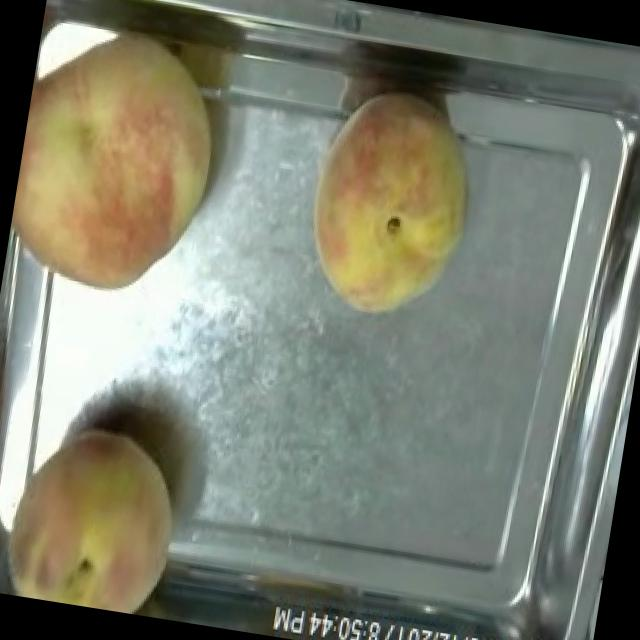Fruit: (2, 15, 244, 316), (286, 75, 494, 332), (0, 409, 197, 620)
